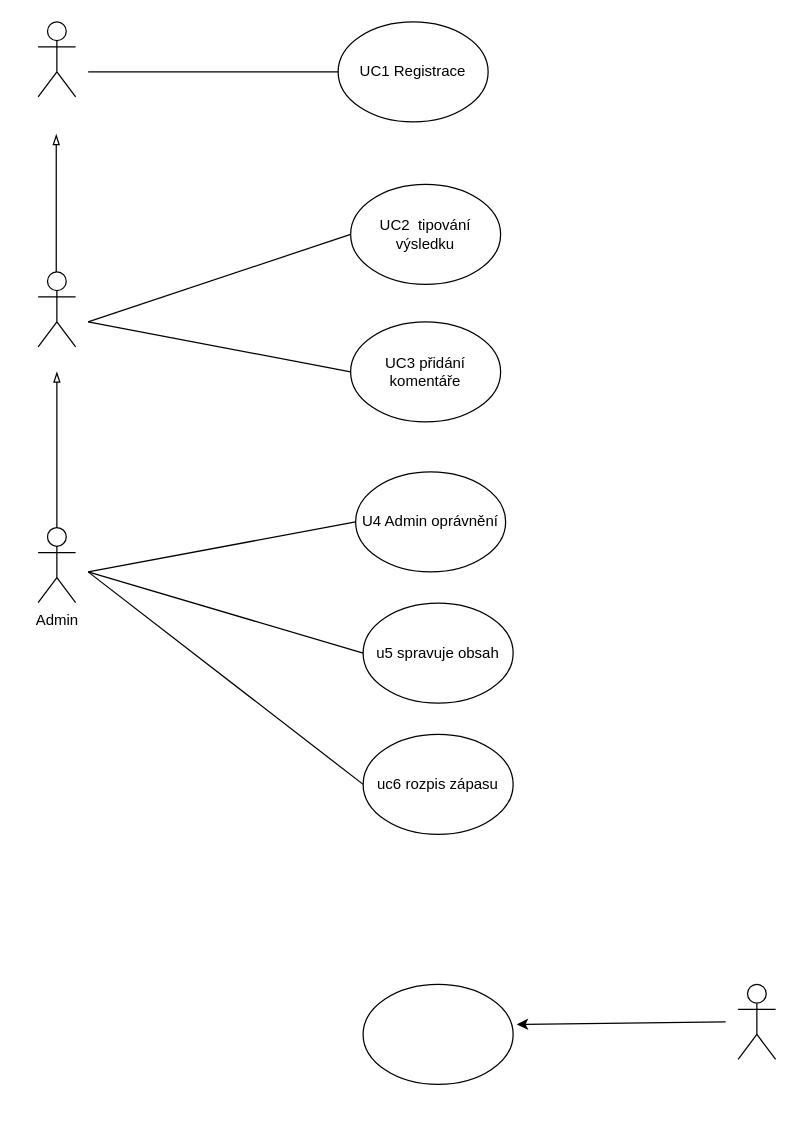
This 804x1126 diagram has some shape labels left out. Each missing label, with the box of its shape:
nereg user: (37, 21, 76, 97)
System: (737, 983, 776, 1059)
člen: (37, 271, 76, 347)
